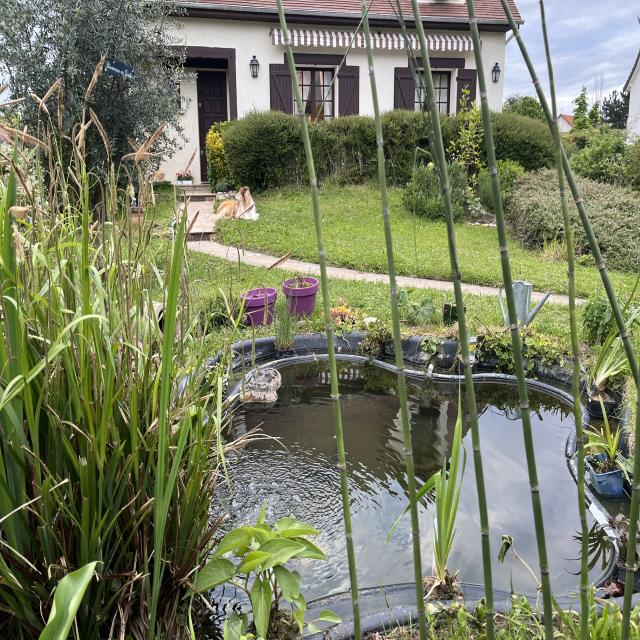Dog: (215, 176, 263, 231)
